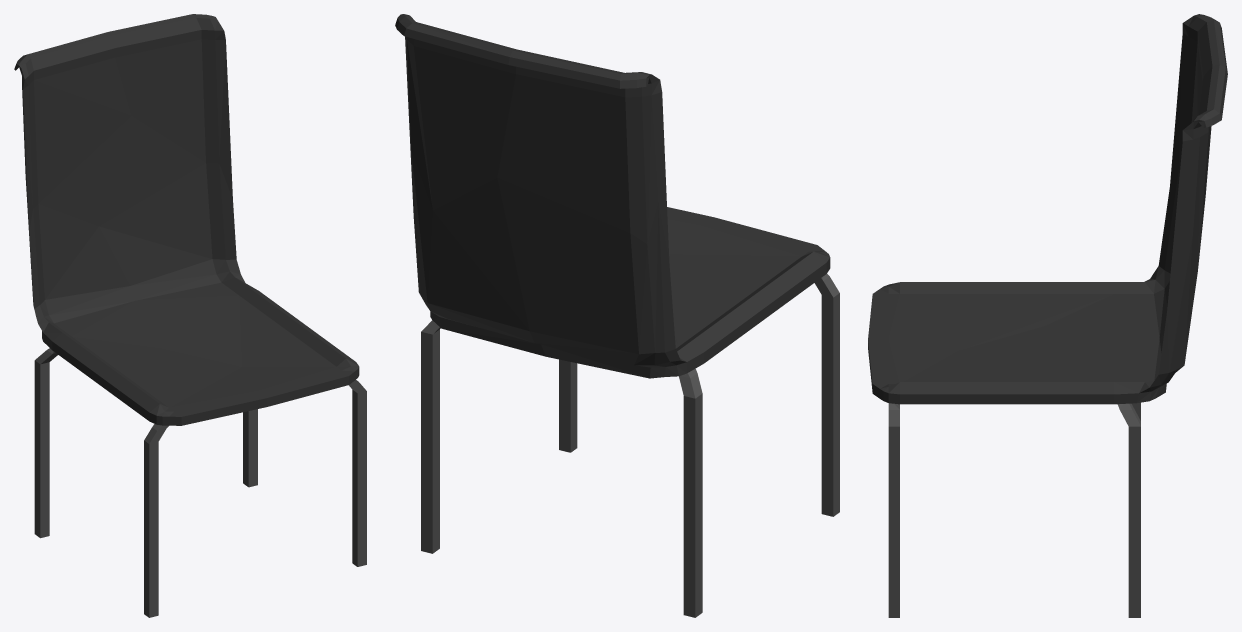
Rendered from Chair_Plastic.fbx.
The picture shows the model from 3 angles, left to right: view 1: azimuth 30°, elevation 25°; view 2: azimuth 150°, elevation 25°; view 3: azimuth 270°, elevation 25°; orthographic projection. The views are drawn at different scales.
Visible parts, largest first — view 1: Cube; view 2: Cube; view 3: Cube.
Part boxes in pixels (x1,y1,x2,y2): Cube: (14,14,366,617); Cube: (395,14,839,617); Cube: (868,14,1227,617).
Size of the model in its own units: 210 by 415 by 274.
